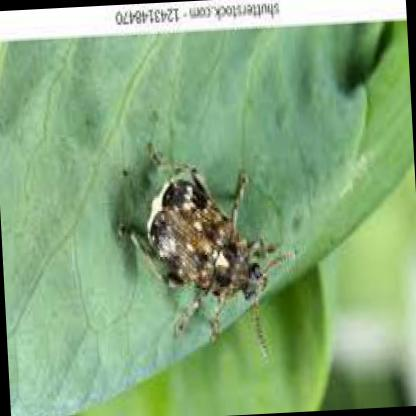ash weevil: (145, 167, 287, 362)
